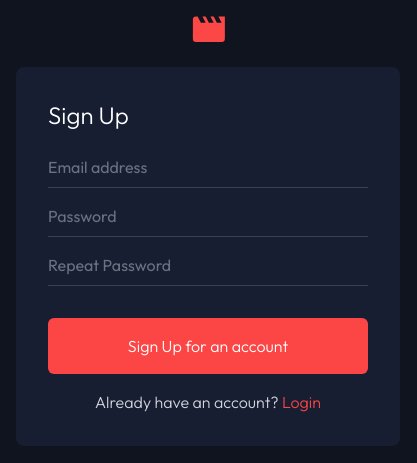
Scenario: Signup › shows error for bad email
In the field labelled "Email address": point(208, 171) [48,155,368,187], type "invalid-email"
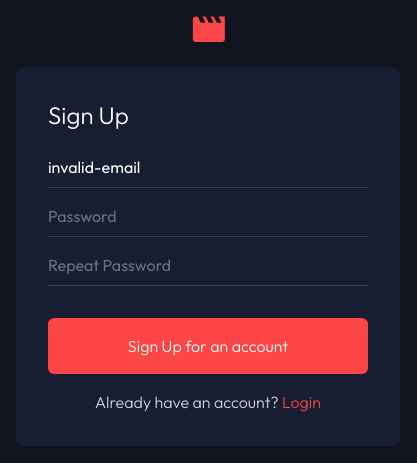
Click the button "Sign Up for an account": point(208, 346) [48,318,368,374]
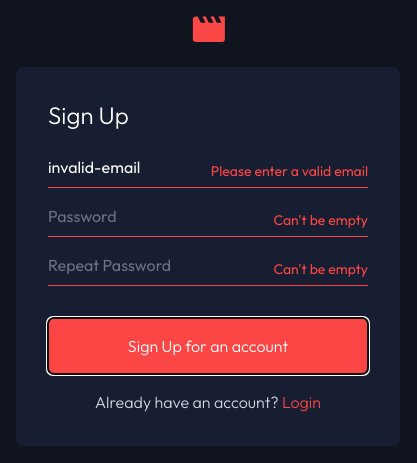
Expected: the text "Please enter a valid email" is shown, [211,161,368,181]
